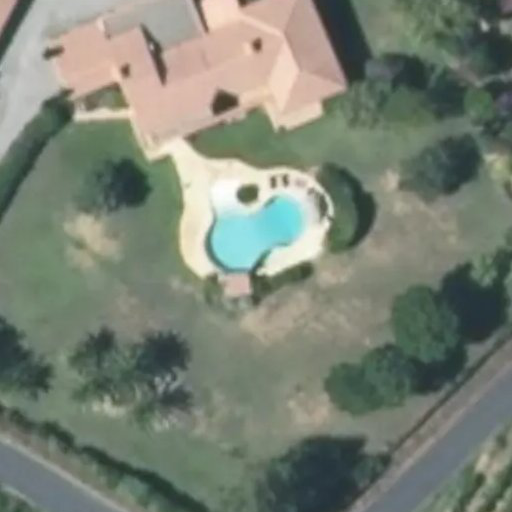pool: (191, 235, 320, 250)
